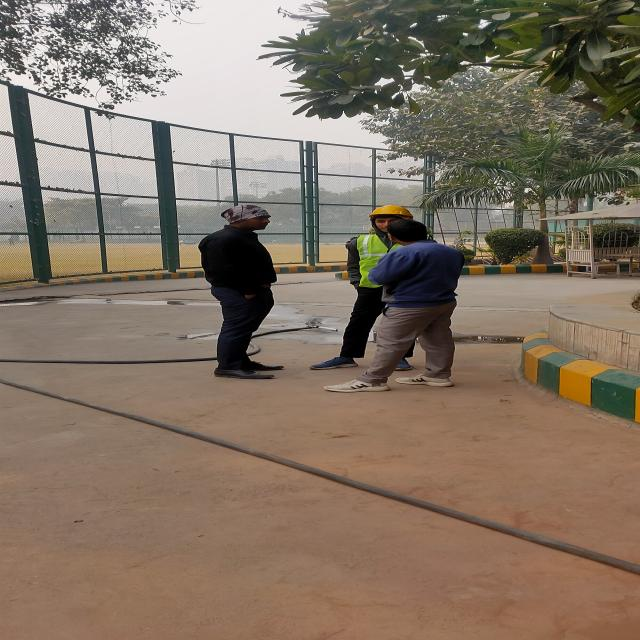safe: (355, 202, 401, 385)
unsafe: (199, 200, 295, 381), (402, 217, 467, 390)
